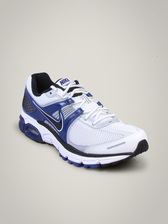shoes: (21, 70, 153, 169)
